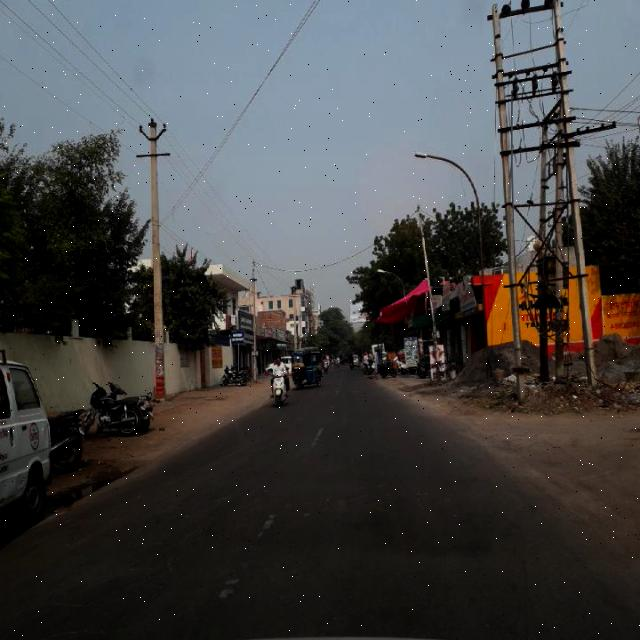D44: (211, 502, 285, 615)
